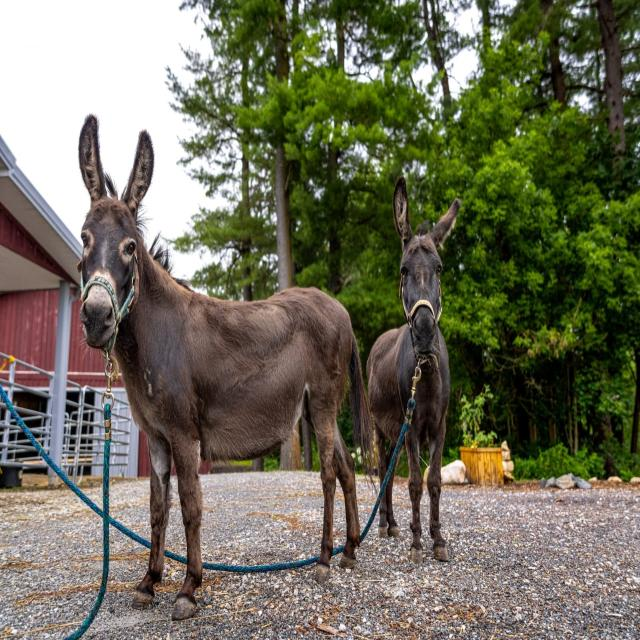Donkey: (77, 111, 360, 613), (368, 171, 462, 553)
